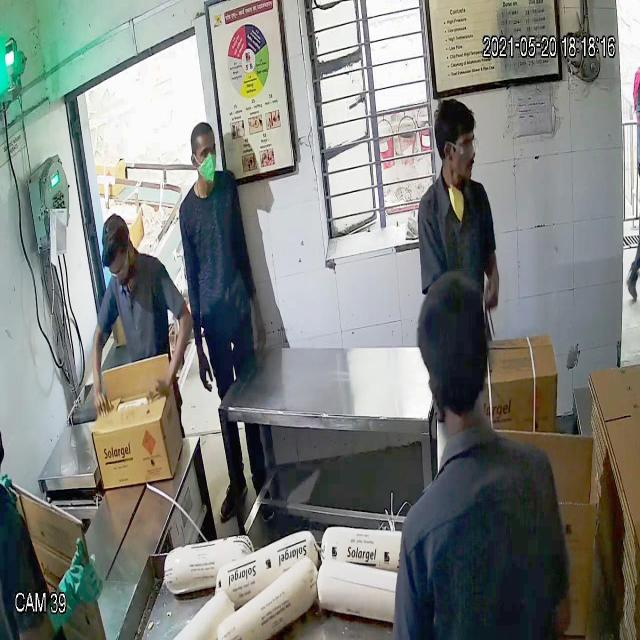glasses: (438, 132, 478, 158), (101, 253, 133, 280)
no-glass: (186, 141, 226, 167)
